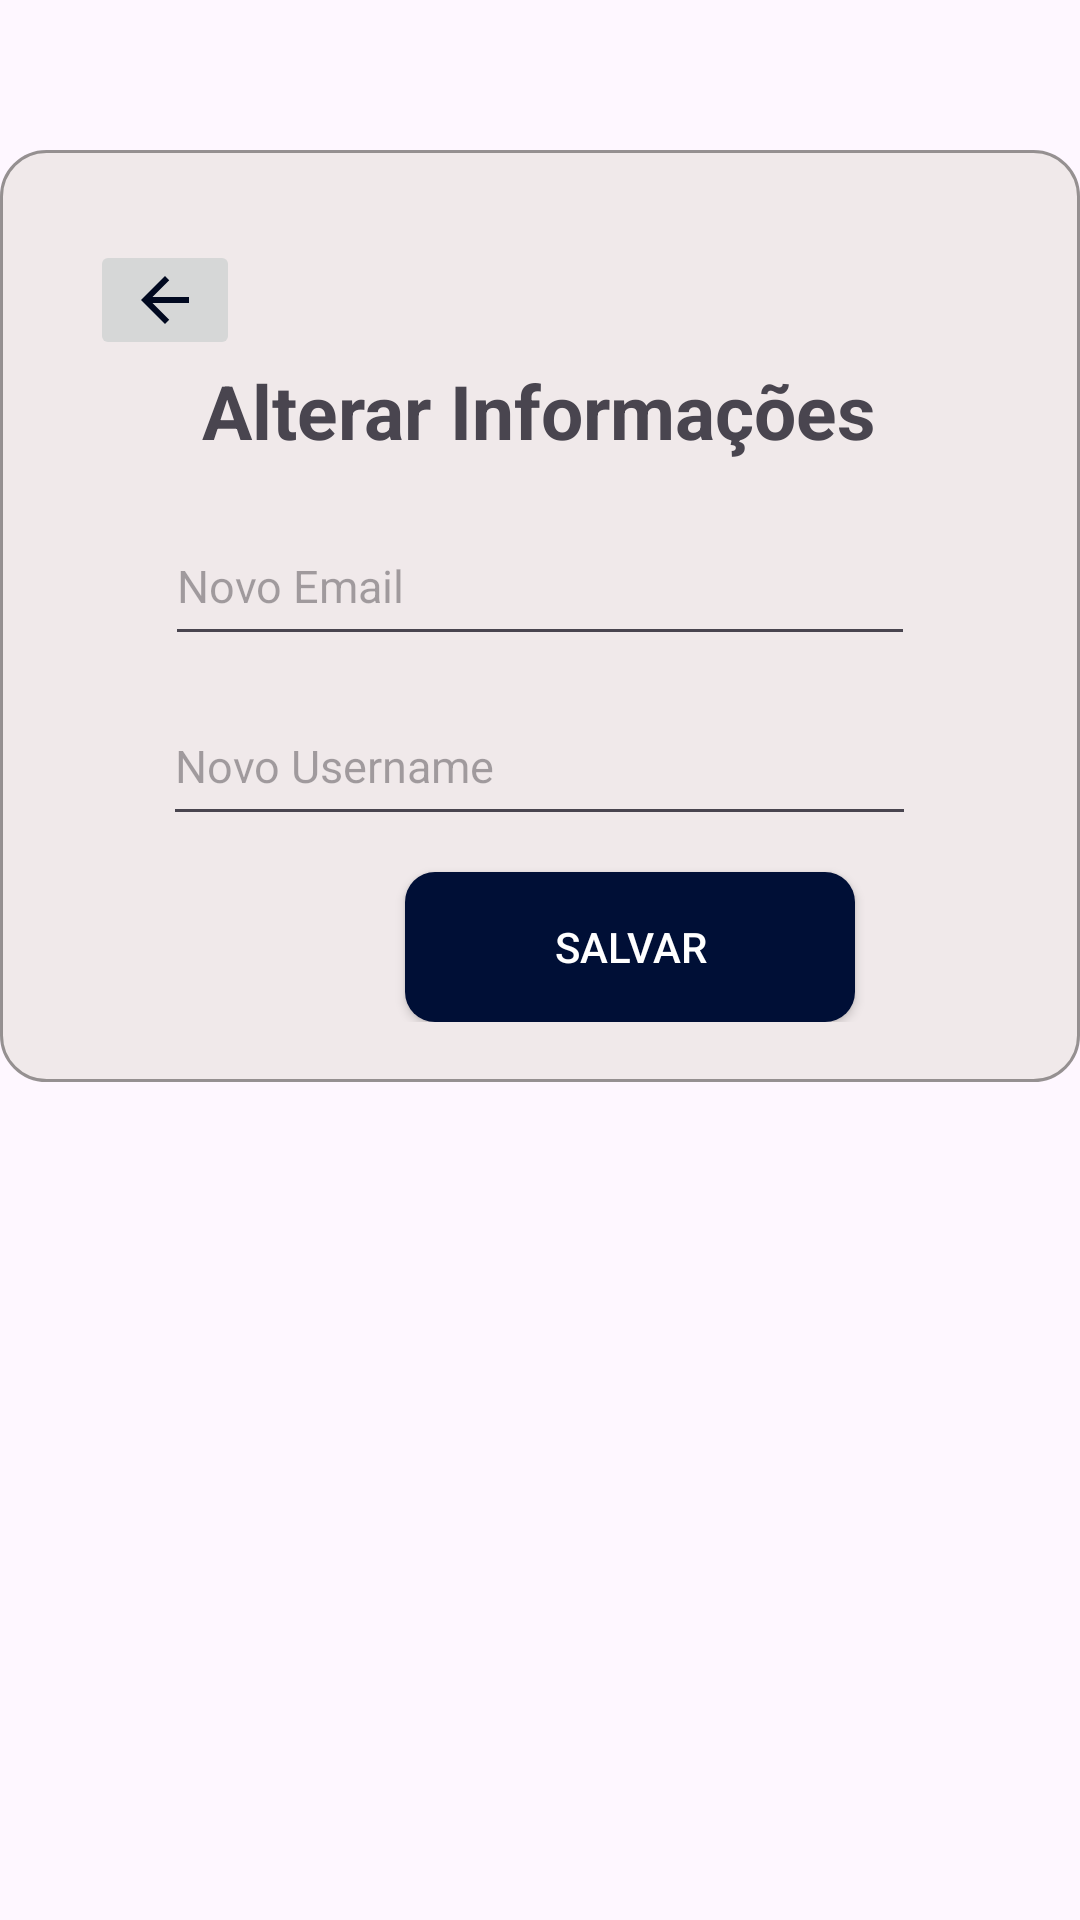

Named icons in this screenshot (1080x1920) and their bounding boxes, box(x1, y1, x2, y2):
arrow back: box(102, 258, 228, 342)
